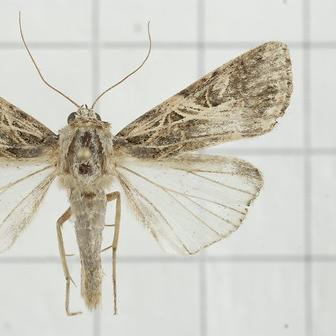Spodoptera litura: (1, 11, 294, 315)
